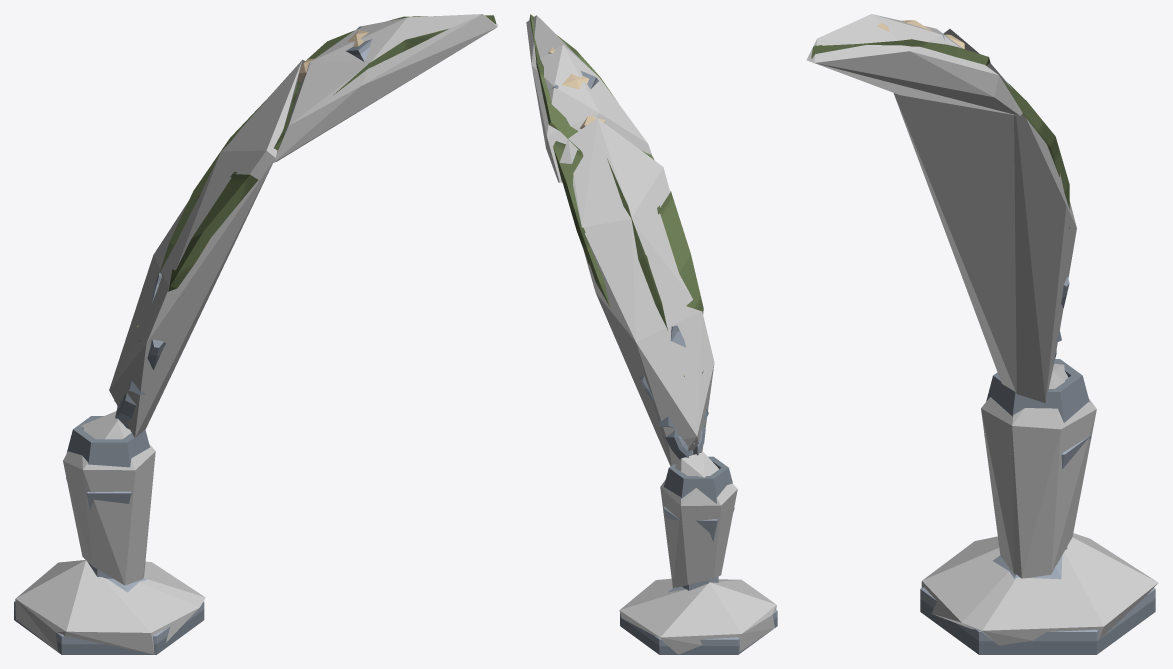
File: SM_Item_Quill_Holder_02.fbx
3 renders of one model, left to right at view 1: azimuth 30°, elevation 25°; view 2: azimuth 150°, elevation 25°; view 3: azimuth 270°, elevation 25°, orthographic. The views are drawn at different scales.
Parts seen in each view (by area): view 1: SM_Item_Quill_Holder_02_ConvexHulls, SM_Item_Quill_Holder_02; view 2: SM_Item_Quill_Holder_02_ConvexHulls, SM_Item_Quill_Holder_02; view 3: SM_Item_Quill_Holder_02_ConvexHulls, SM_Item_Quill_Holder_02.
Boxes of the visible parts, x1,y1,x2,y2 form: SM_Item_Quill_Holder_02_ConvexHulls: (15,14,497,654); SM_Item_Quill_Holder_02: (14,15,496,654); SM_Item_Quill_Holder_02_ConvexHulls: (526,15,776,654); SM_Item_Quill_Holder_02: (529,14,777,654); SM_Item_Quill_Holder_02_ConvexHulls: (806,14,1158,645); SM_Item_Quill_Holder_02: (811,20,1155,654).
Size of the model in its own units: 25.07 by 16.64 by 38.87.
2 materials, 1 textured.
